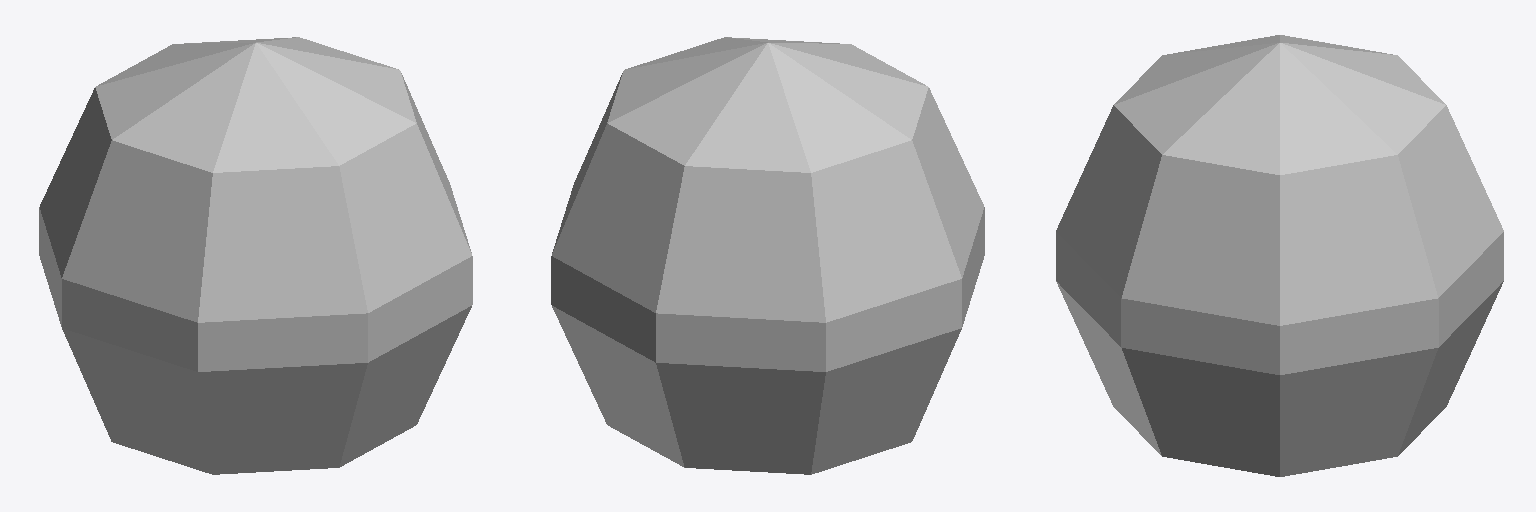
Rendered from seeker mine.obj.
3 views of the same model, side by side, from view 1: azimuth 30°, elevation 25°; view 2: azimuth 150°, elevation 25°; view 3: azimuth 270°, elevation 25° (orthographic).
Visible parts, largest first — view 1: Sphere.002; view 2: Sphere.002; view 3: Sphere.002.
Part boxes in pixels (bbox=[...]): Sphere.002: bbox=[39, 37, 472, 474]; Sphere.002: bbox=[551, 37, 984, 474]; Sphere.002: bbox=[1056, 35, 1503, 476].
Size of the model in its own units: 1.9 by 2 by 1.9.